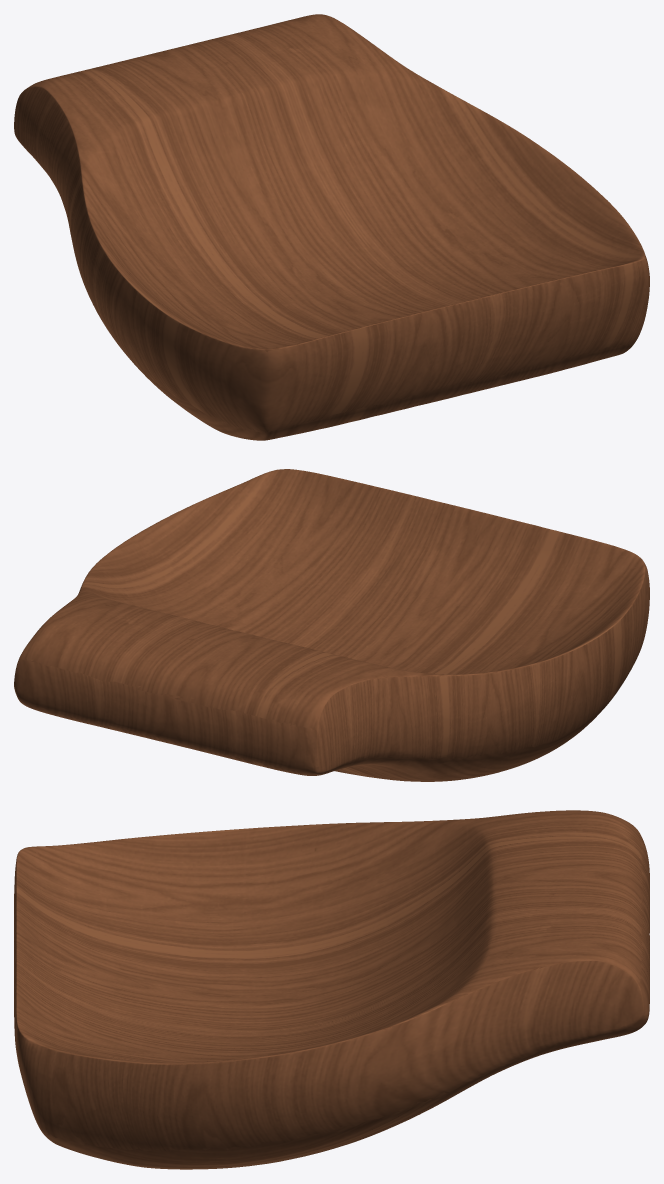
The model's file is wood_rest.glb.
3 renders of one model, top to bottom at view 1: azimuth 30°, elevation 25°; view 2: azimuth 150°, elevation 25°; view 3: azimuth 270°, elevation 25°, orthographic. The views are drawn at different scales.
Parts seen in each view (by area): view 1: Wooden Spatula Rest; view 2: Wooden Spatula Rest; view 3: Wooden Spatula Rest.
Part boxes in pixels (<box>): Wooden Spatula Rest: <box>14,14,649,440</box>; Wooden Spatula Rest: <box>14,469,649,781</box>; Wooden Spatula Rest: <box>14,810,649,1169</box>.
Size of the model in its own units: 0.1042 by 0.0437 by 0.119.
1 material, 1 textured.
